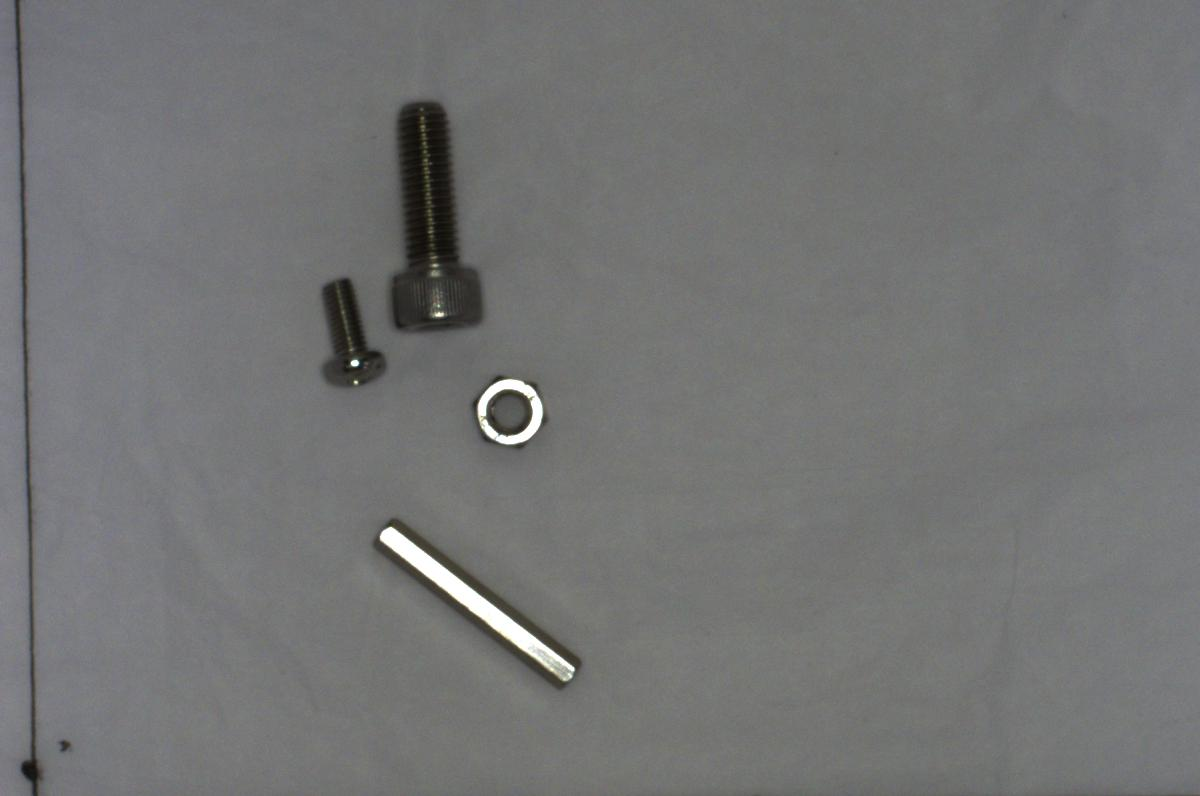Double hexagonal column: (366, 506, 588, 698)
Hexagon nut: (460, 368, 558, 453)
Hexagon screw: (370, 90, 502, 343)
Round head screw: (313, 272, 394, 395)
